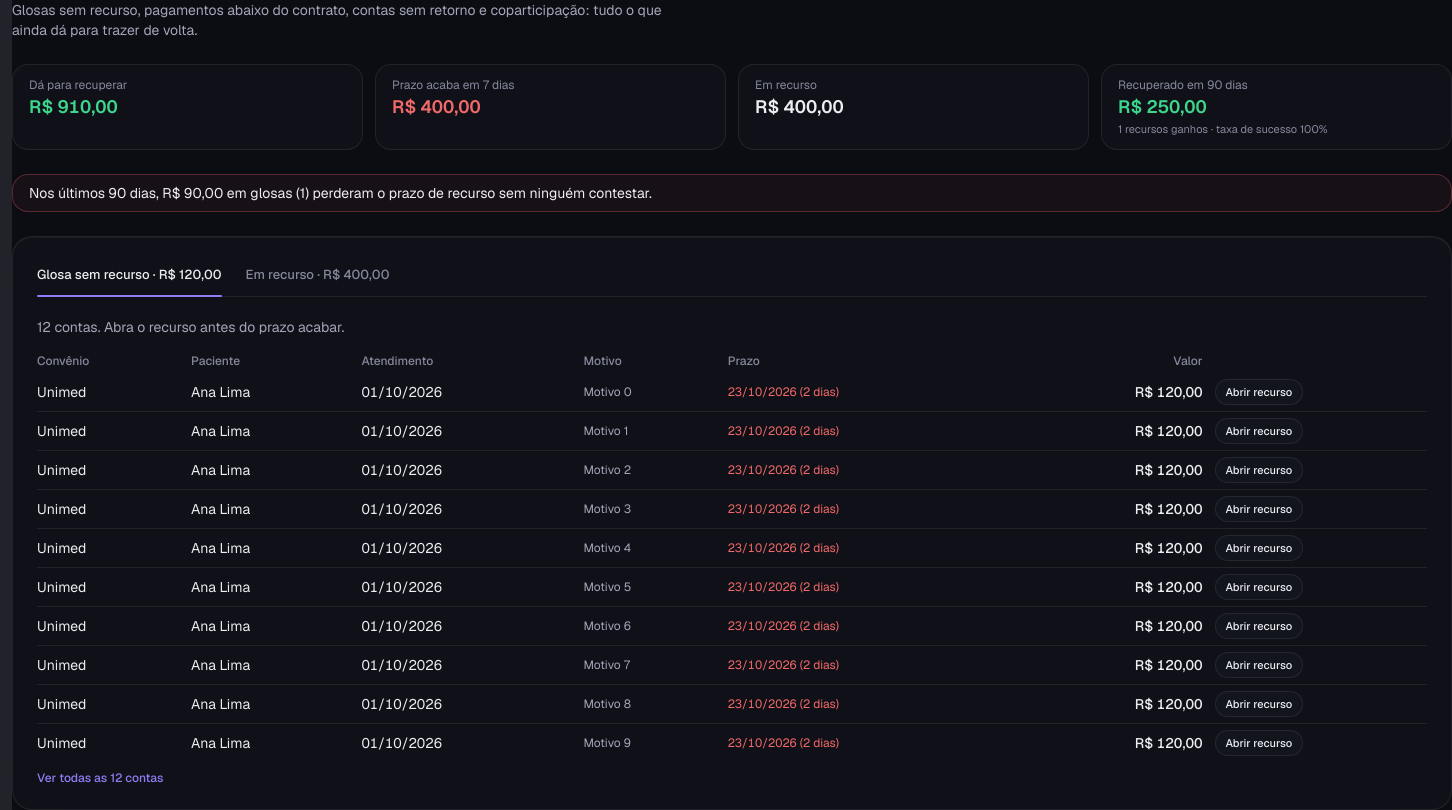
Test: RecoveryCenterPage — homologação v1.0.0 › mostra as 10 mais urgentes e o resto atrás de 'Ver todas'
This screenshot has width=1452, height=810.
(page scrolled)
Expected: the text "Motivo 9" is shown, 583,723 -> 728,762
Expected: the text "Motivo 10" is not shown
Step 1. Click the button "Ver todas as 12 contas" → (100, 778), box 37,770 -> 164,786
(page scrolled)
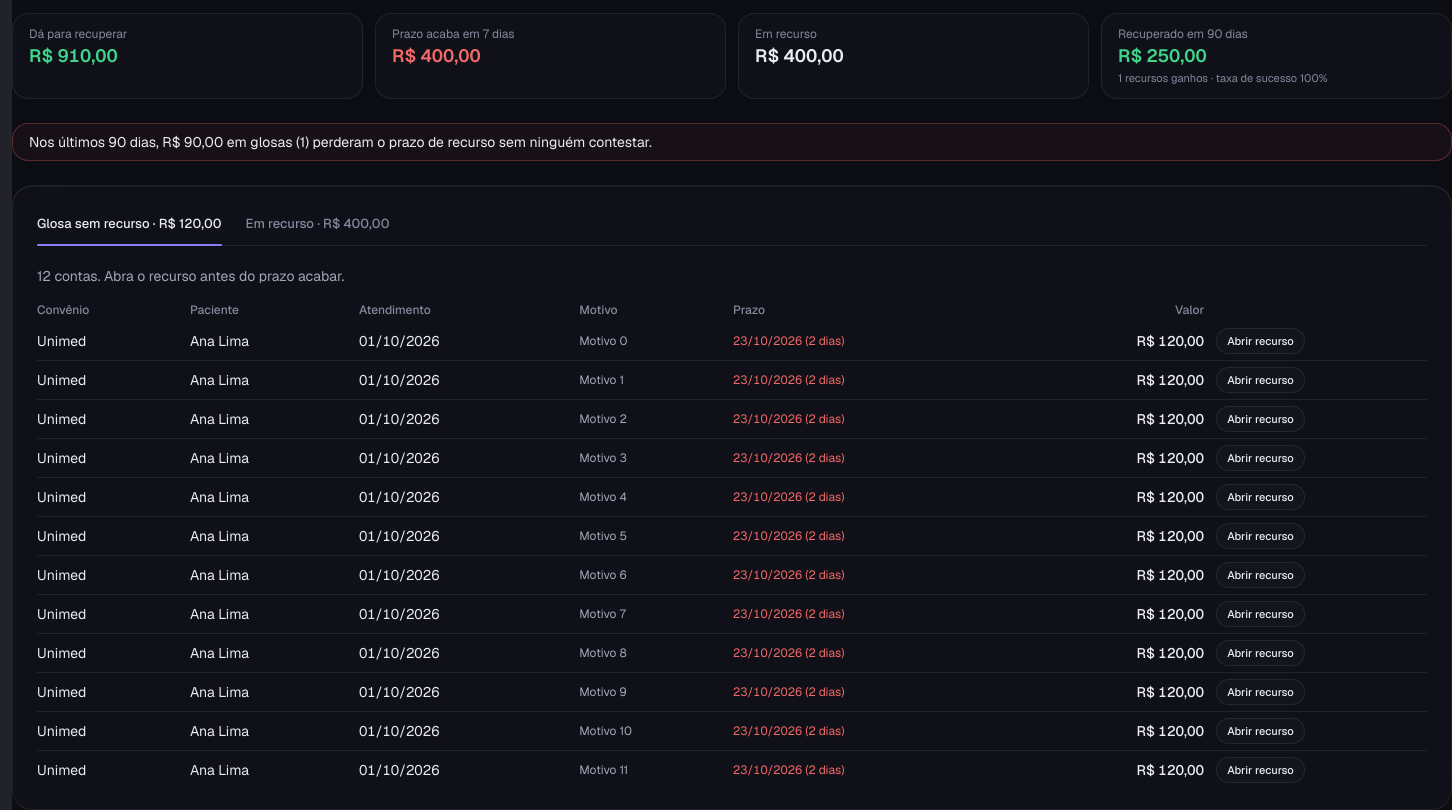
Result: the text "Motivo 11" is shown at 579,750 -> 733,788
